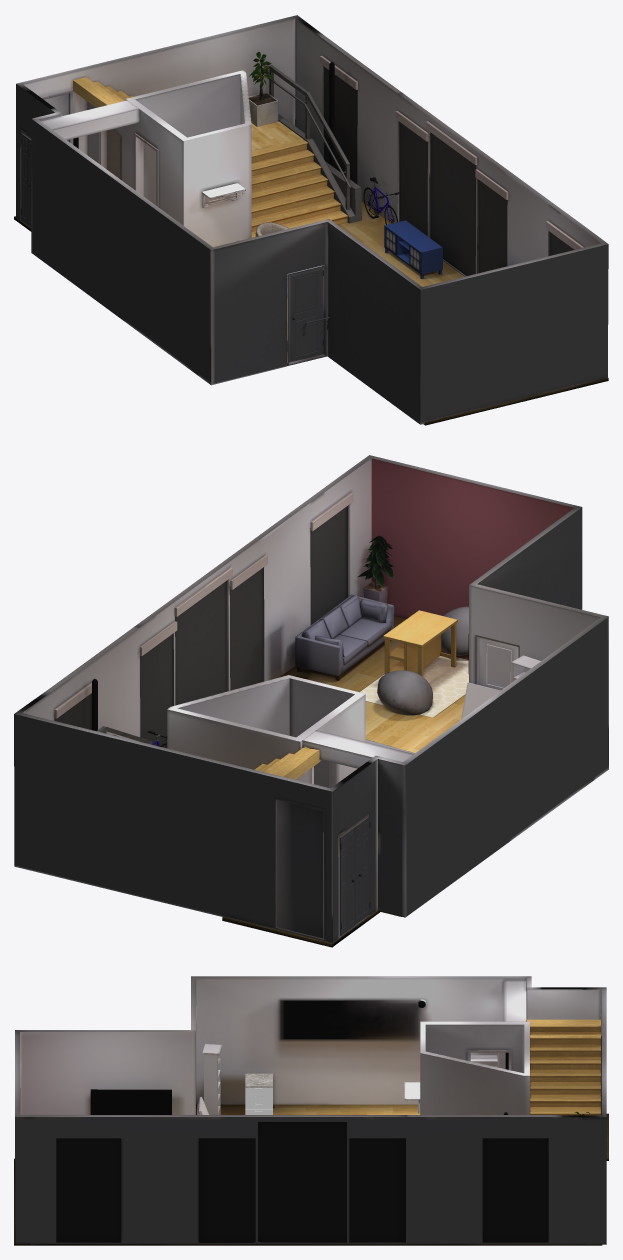
File: Baked_sc1_staging_objaverse_cabinet2_h870.glb
The picture shows the model from 3 angles, top to bottom: view 1: azimuth 30°, elevation 25°; view 2: azimuth 150°, elevation 25°; view 3: azimuth 270°, elevation 25°; orthographic projection. The views are drawn at different scales.
Parts seen in each view (by area): view 1: frl_apartment_wall_arch.001, frl_apartment_blinds, frl_apartment_stair, frl_apartment_floor, frl_apartment_door_01, frl_apartment_tvstand, frl_apartment_indoor_plant_01, frl_apartment_door_05, frl_apartment_door_part_03, frl_apartment_door_part_04, frl_apartment_bike_01, frl_apartment_clothes_hanger_02 (+1 smaller); view 2: frl_apartment_wall_arch.001, frl_apartment_blinds, frl_apartment_door_04, frl_apartment_floor, frl_apartment_sofa, frl_apartment_table_02, frl_apartment_rug_01, frl_apartment_beanbag_01, frl_apartment_door_01, frl_apartment_door_05, frl_apartment_door_06, frl_apartment_stair (+4 smaller); view 3: frl_apartment_wall_arch.001, frl_apartment_blinds, frl_apartment_stair, frl_apartment_floor, frl_apartment_tv_screen, frl_apartment_wall_cabinet_01, Object_2.
Boxes of the visible parts, box(x1,y1,x2,y2) form: frl_apartment_wall_arch.001: box(16, 15, 608, 424); frl_apartment_blinds: box(320, 56, 583, 275); frl_apartment_stair: box(73, 65, 361, 237); frl_apartment_floor: box(14, 201, 608, 425); frl_apartment_door_01: box(289, 267, 323, 362); frl_apartment_tvstand: box(384, 220, 442, 278); frl_apartment_indoor_plant_01: box(248, 52, 278, 126); frl_apartment_door_05: box(21, 133, 31, 226); frl_apartment_door_part_03: box(287, 265, 327, 365); frl_apartment_door_part_04: box(135, 133, 158, 207); frl_apartment_bike_01: box(363, 177, 400, 224); frl_apartment_clothes_hanger_02: box(201, 183, 245, 207); frl_apartment_wall_arch.001: box(14, 455, 608, 943); frl_apartment_blinds: box(54, 492, 353, 748); frl_apartment_door_04: box(276, 800, 323, 938); frl_apartment_floor: box(222, 616, 468, 947); frl_apartment_sofa: box(295, 594, 394, 680); frl_apartment_table_02: box(383, 610, 457, 676); frl_apartment_rug_01: box(359, 656, 468, 717); frl_apartment_beanbag_01: box(377, 670, 432, 715); frl_apartment_door_01: box(479, 637, 518, 690); frl_apartment_door_05: box(340, 827, 355, 935); frl_apartment_door_06: box(354, 816, 370, 924); frl_apartment_stair: box(97, 726, 320, 779); frl_apartment_wall_arch.001: box(15, 976, 606, 1244); frl_apartment_blinds: box(56, 1122, 548, 1242); frl_apartment_stair: box(526, 1019, 600, 1115); frl_apartment_floor: box(14, 1104, 608, 1245); frl_apartment_tv_screen: box(90, 1089, 171, 1114); frl_apartment_wall_cabinet_01: box(202, 1044, 221, 1114); Object_2: box(245, 1073, 272, 1114).
Size of the model in its own units: 7.26 by 3.21 by 12.93.
8 materials, 8 textured.
